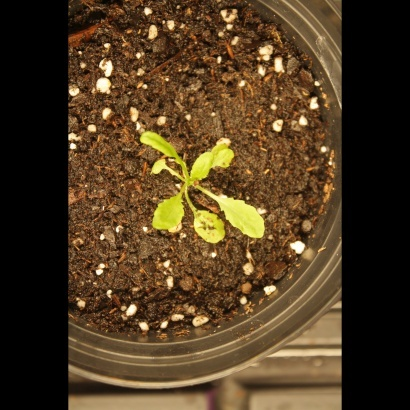leaf: (209, 193, 271, 239), (190, 201, 229, 250), (149, 189, 185, 236), (137, 128, 183, 163), (188, 149, 216, 185), (147, 154, 172, 179), (213, 146, 239, 170)
